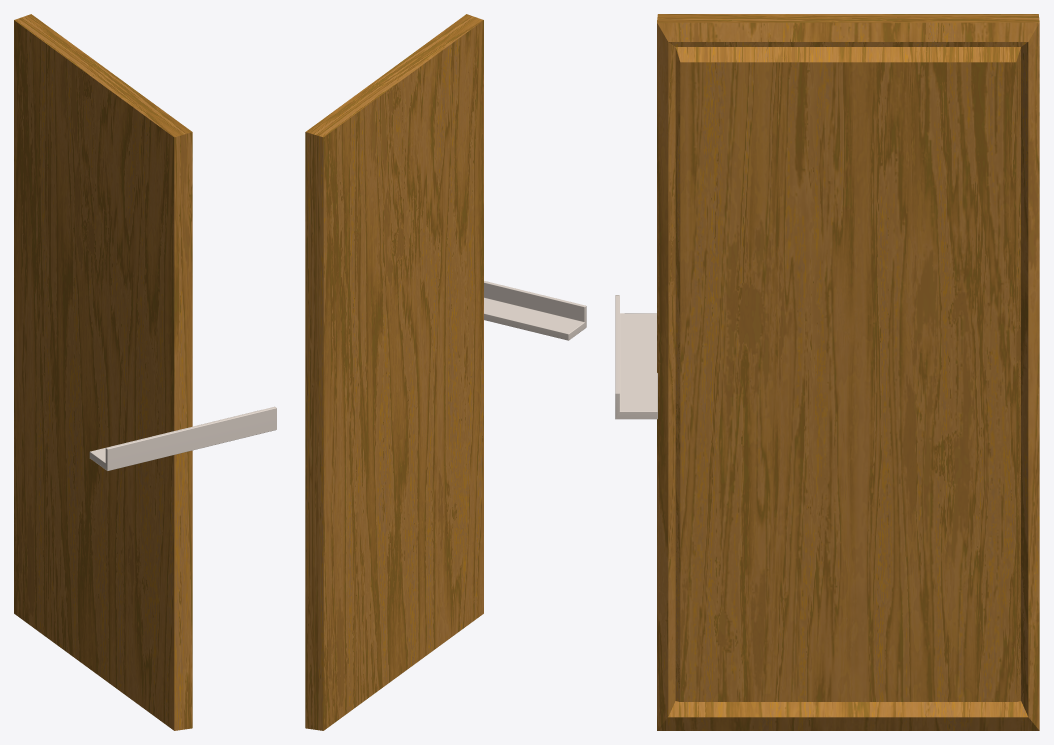
Rendered from Cabinet_b17b08b3.obj.
The picture shows the model from 3 angles, left to right: view 1: azimuth 30°, elevation 25°; view 2: azimuth 150°, elevation 25°; view 3: azimuth 270°, elevation 25°; orthographic projection. The views are drawn at different scales.
Parts seen in each view (by area): view 1: Mesh_01_2a037822, handle_3_178mm_01_1c524bcf; view 2: Mesh_01_2a037822, handle_3_178mm_01_1c524bcf; view 3: Mesh_01_2a037822, handle_3_178mm_01_1c524bcf.
Part boxes in pixels (left/top/right/bottom): Mesh_01_2a037822: left=14, top=14, right=192, bottom=730; handle_3_178mm_01_1c524bcf: left=89, top=406, right=276, bottom=470; Mesh_01_2a037822: left=305, top=14, right=483, bottom=730; handle_3_178mm_01_1c524bcf: left=484, top=281, right=586, bottom=340; Mesh_01_2a037822: left=657, top=14, right=1039, bottom=730; handle_3_178mm_01_1c524bcf: left=615, top=295, right=657, bottom=419.
Size of the model in its own units: 0.178 by 0.598 by 0.3247.
